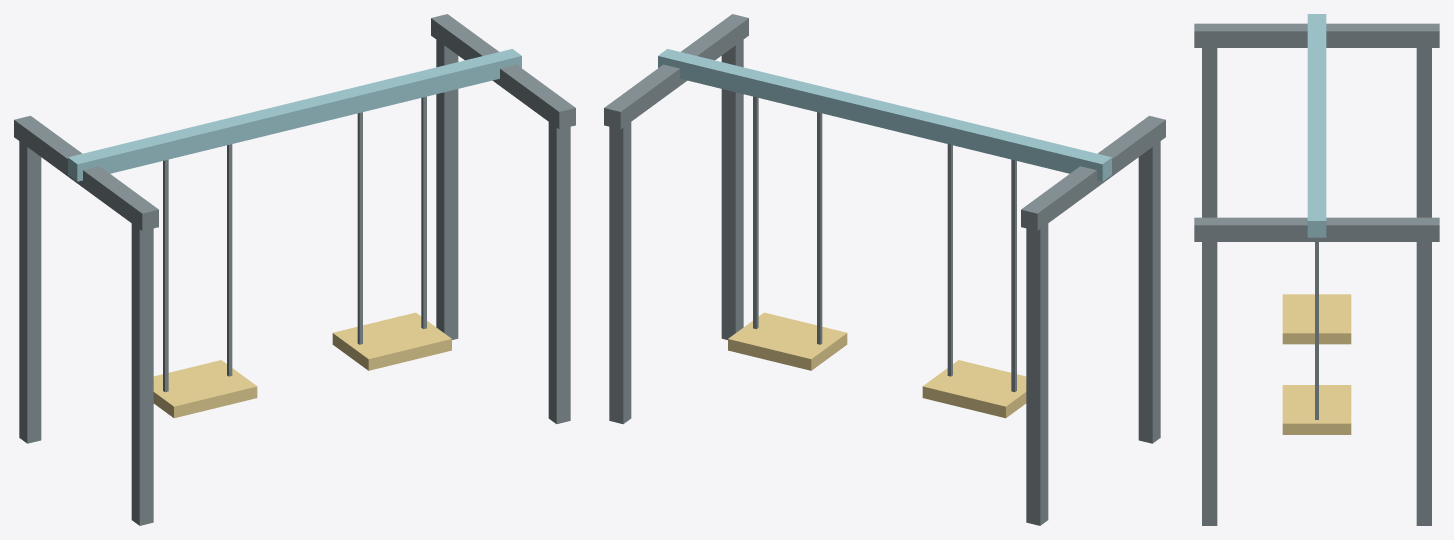
Rendered from swing.glb.
The picture shows the model from 3 angles, left to right: view 1: azimuth 30°, elevation 25°; view 2: azimuth 150°, elevation 25°; view 3: azimuth 270°, elevation 25°; orthographic projection. The views are drawn at different scales.
Size of the model in its own units: 3.2 by 2.22 by 1.6.
